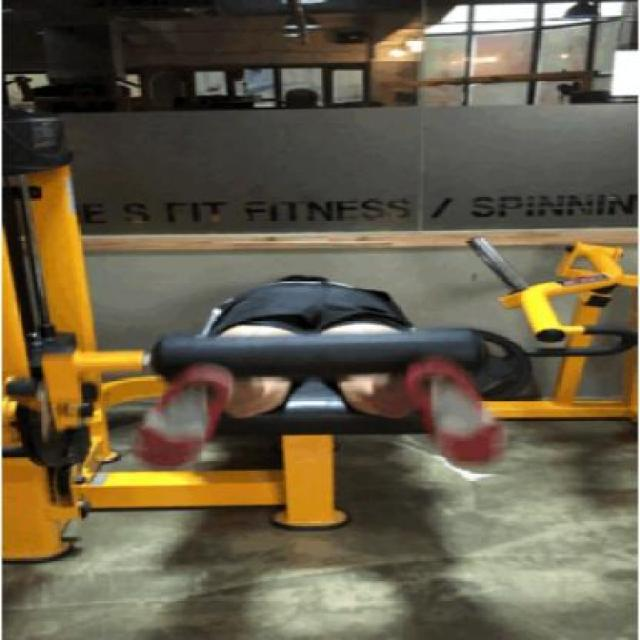reg curl machine: (0, 99, 540, 576)
